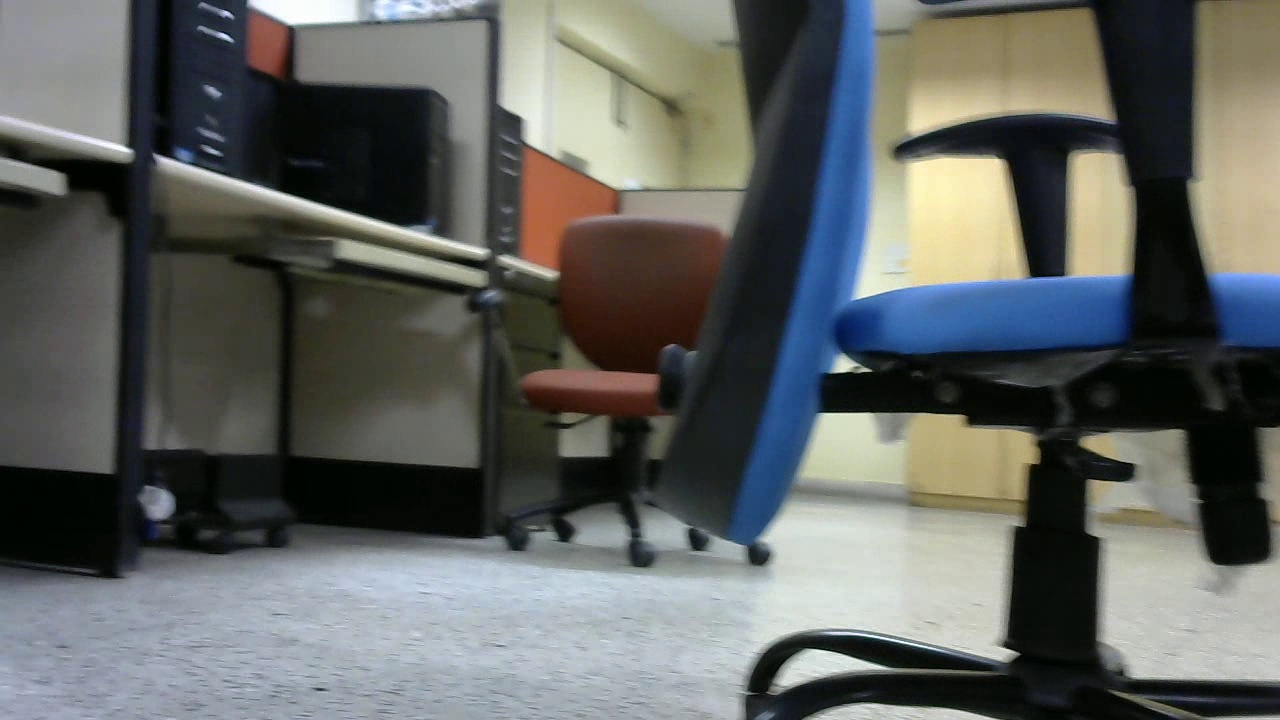chair: (30, 1, 440, 607)
